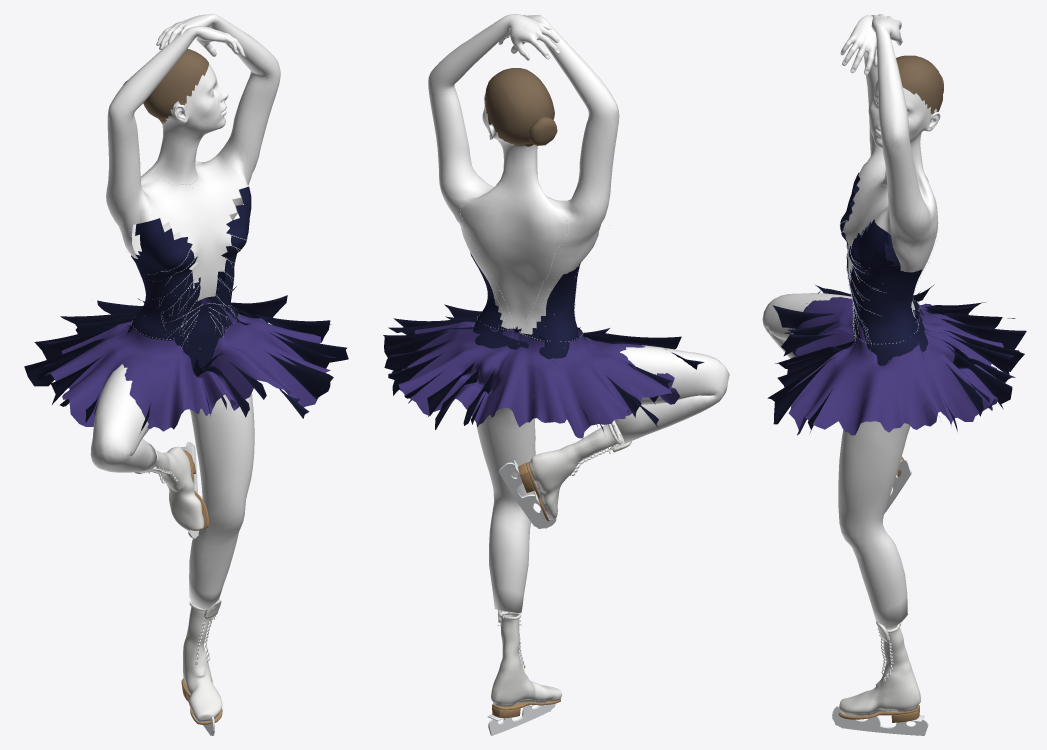
The model's file is skater.glb.
3 renders of one model, left to right at view 1: azimuth 30°, elevation 25°; view 2: azimuth 150°, elevation 25°; view 3: azimuth 270°, elevation 25°, orthographic.
Visible parts, largest first — view 1: skin, skirt_inner, velvet, skirt_outer, leather, skirt_middle, hair_cap, soles, veins; view 2: skin, skirt_inner, leather, velvet, skirt_outer, hair_cap, skirt_middle, blades, soles, bun_core; view 3: skin, skirt_inner, velvet, skirt_outer, leather, skirt_middle, hair_cap, blades, soles.
Part boxes in pixels (box(x1,y1,x2,y2)): skin: box(90, 14, 280, 609); skirt_inner: box(44, 297, 330, 431); velvet: box(127, 186, 251, 369); skirt_outer: box(24, 286, 348, 432); leather: box(134, 446, 222, 722); skirt_middle: box(36, 298, 336, 409); hair_cap: box(143, 49, 208, 124); soles: box(181, 450, 222, 724); veins: box(148, 233, 246, 348); skin: box(428, 14, 729, 612); skirt_inner: box(398, 321, 679, 438); leather: box(491, 423, 631, 706); velvet: box(470, 252, 580, 359); skirt_outer: box(383, 304, 704, 431); hair_cap: box(485, 68, 554, 146); skirt_middle: box(385, 311, 670, 425); blades: box(487, 460, 556, 735); soles: box(492, 462, 560, 718); bun_core: box(529, 116, 557, 145); skin: box(762, 14, 940, 628); skirt_inner: box(787, 297, 1003, 435); velvet: box(840, 172, 928, 365); skirt_outer: box(773, 284, 1026, 432); leather: box(839, 621, 920, 716); skirt_middle: box(767, 291, 1024, 431); hair_cap: box(875, 55, 942, 114); blades: box(832, 460, 928, 735); soles: box(838, 456, 919, 722).
Size of the model in its own units: 0.8012 by 1.82 by 0.6365.
